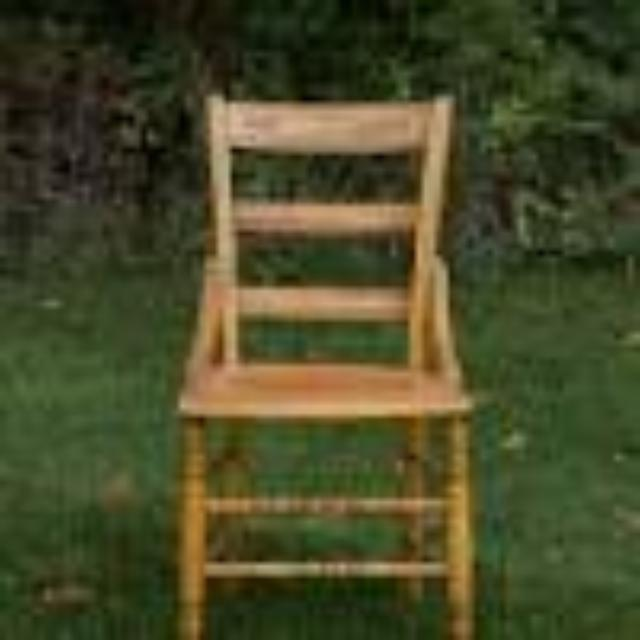obstacle: (134, 26, 506, 640)
